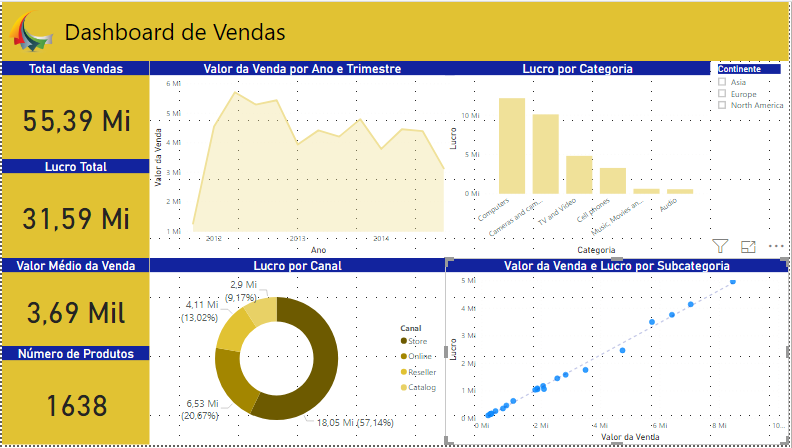

What the dashboard file says about the page in this screenshot:
{"tool":"powerbi","page":{"name":"Página 1","canvas":[1280,720],"ordinal":0},"visuals":[{"type":"basicShape","box":[0,0,1280,96],"z":0},{"type":"areaChart","fields":{"Category":["Data1.Data Venda.Variation.Hierarquia de datas.Ano","Data1.Data Venda.Variation.Hierarquia de datas.Trimestre","Data1.Data Venda.Variation.Hierarquia de datas.Mês","Data1.Data Venda.Variation.Hierarquia de datas.Dia"],"Y":["Sum(Data1.Valor da Venda)"]},"box":[240,96,496,320],"z":9},{"type":"scatterChart","fields":{"Category":["Data1.Subcategoria"],"X":["Sum(Data1.Valor da Venda)"],"Y":["Sum(Data1.Lucro)"]},"box":[720,416,560,304],"z":12},{"type":"slicer","fields":{"Values":["Data1.Continente"]},"box":[1152,96,128,320],"z":13},{"type":"basicShape","box":[0,96,240,624],"z":1000},{"type":"image","box":[0,0,96,96],"z":2000},{"type":"textbox","box":[96,16,496,64],"z":3000},{"type":"card","title":"Total das Vendas","fields":{"Values":["Sum(Data1.Valor da Venda)"]},"box":[0,96,240,160],"z":4000},{"type":"card","title":"Lucro Total","fields":{"Values":["Sum(Data1.Lucro)"]},"box":[0,256,240,160],"z":5000},{"type":"card","title":"Valor Médio da Venda","fields":{"Values":["Avg(Data1.Valor da Venda)"]},"box":[0,416,240,144],"z":6000},{"type":"card","title":"Número de Produtos","fields":{"Values":["Count(Data1.Produto)"]},"box":[0,560,240,160],"z":7000},{"type":"clusteredColumnChart","fields":{"Category":["Data1.Categoria"],"Y":["Sum(Data1.Lucro)"]},"box":[720,96,432,320],"z":7001},{"type":"donutChart","fields":{"Category":["Data1.Canal"],"Y":["Sum(Data1.Lucro)"]},"box":[240,416,480,304],"z":7002}]}

Visuals, with their boxes in screenshot pixels (x1, y1, x2, y2), scaled from the page's 1280x720 canvas onto the 792x448 screenshot:
basicShape: <bbox>0, 0, 791, 60</bbox>
areaChart - Data1.Data Venda.Variation.Hierarquia de datas.Ano x Data1.Data Venda.Variation.Hierarquia de datas.Trimestre: <bbox>148, 60, 455, 259</bbox>
scatterChart - Data1.Subcategoria x Sum(Data1.Valor da Venda): <bbox>446, 259, 791, 447</bbox>
slicer - Data1.Continente: <bbox>713, 60, 791, 259</bbox>
basicShape: <bbox>0, 60, 148, 447</bbox>
image: <bbox>0, 0, 59, 60</bbox>
textbox: <bbox>59, 10, 366, 50</bbox>
"Total das Vendas" card: <bbox>0, 60, 148, 159</bbox>
"Lucro Total" card: <bbox>0, 159, 148, 259</bbox>
"Valor Médio da Venda" card: <bbox>0, 259, 148, 348</bbox>
"Número de Produtos" card: <bbox>0, 348, 148, 447</bbox>
clusteredColumnChart - Data1.Categoria x Sum(Data1.Lucro): <bbox>446, 60, 713, 259</bbox>
donutChart - Data1.Canal x Sum(Data1.Lucro): <bbox>148, 259, 446, 447</bbox>
